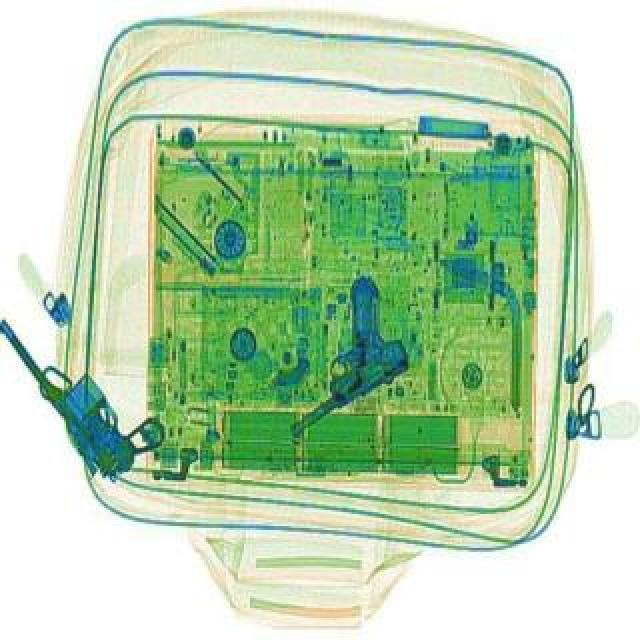gun: (230, 268, 430, 438), (0, 294, 168, 482)
